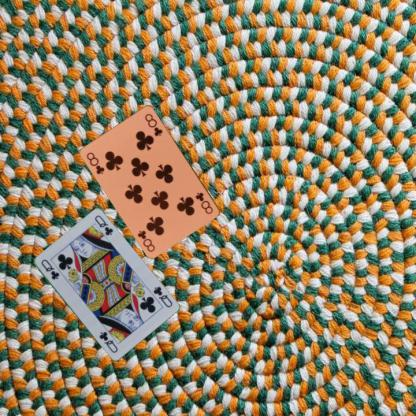8c: (84, 150, 106, 176), (193, 190, 214, 216)
Qc: (150, 284, 174, 308), (38, 256, 61, 281)
